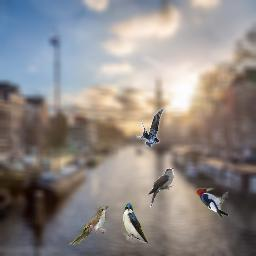Cuckoo: (69, 206, 109, 245), (148, 168, 174, 208)
Swallow: (136, 108, 164, 147), (123, 203, 148, 243)
Woodpecker: (195, 187, 230, 217)
